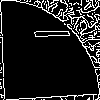I: (25, 25, 70, 42)
